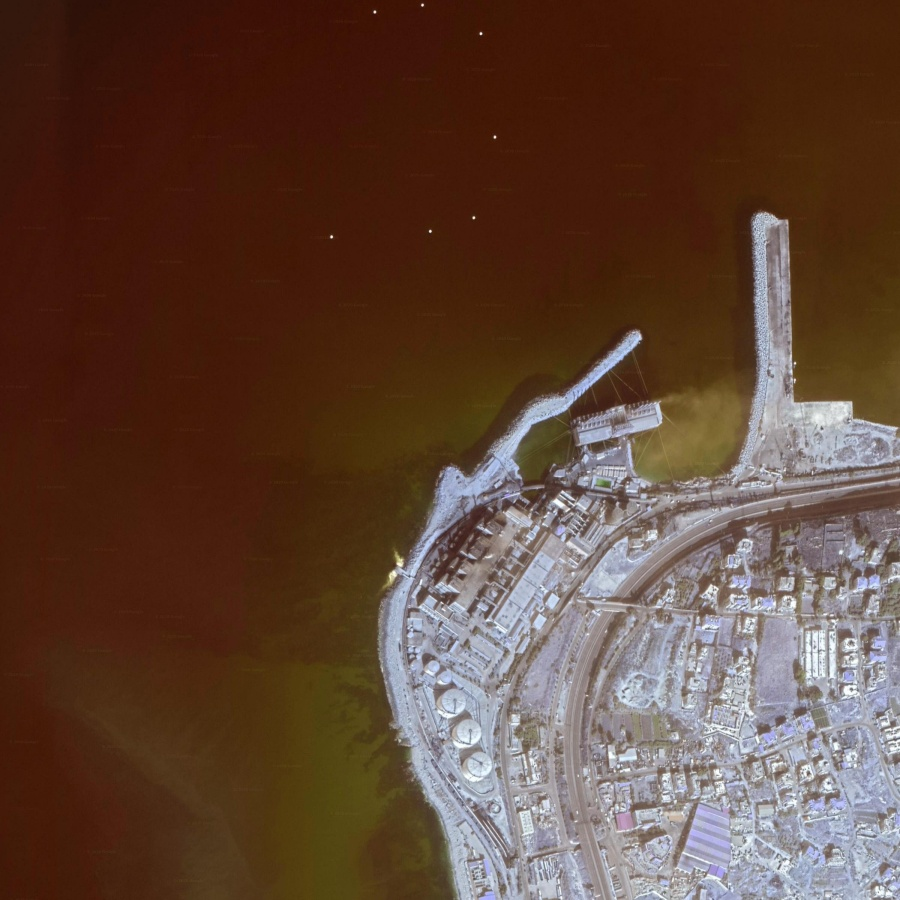PowerPlant: (370, 388, 666, 786)
